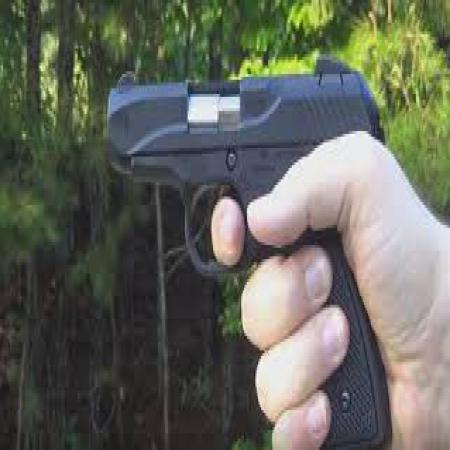Pistol: (102, 57, 386, 441)
